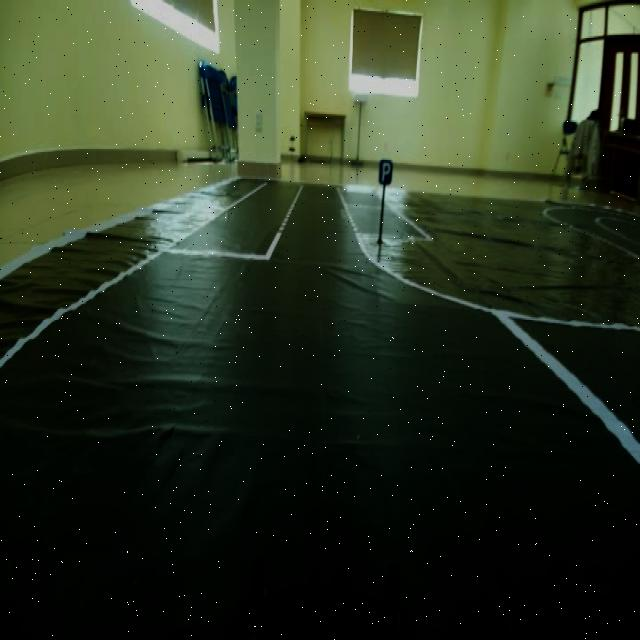parking: (371, 148, 401, 194)
